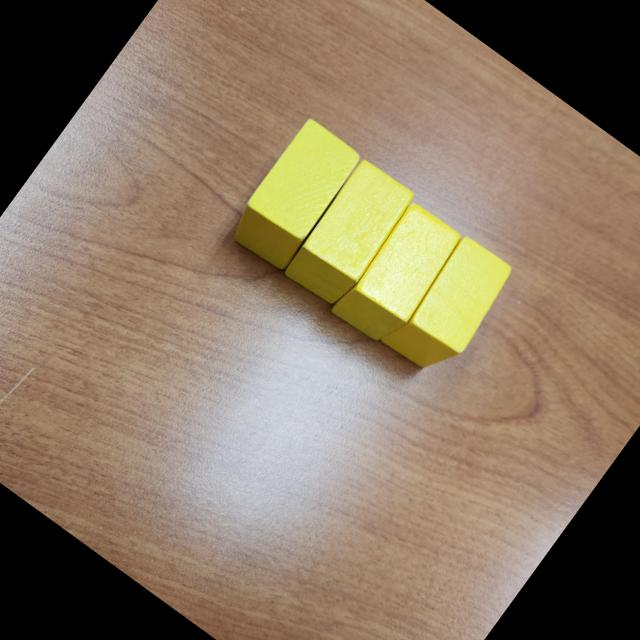yellow: (376, 227, 521, 386), (223, 116, 365, 275), (278, 156, 419, 314), (327, 198, 466, 352)
